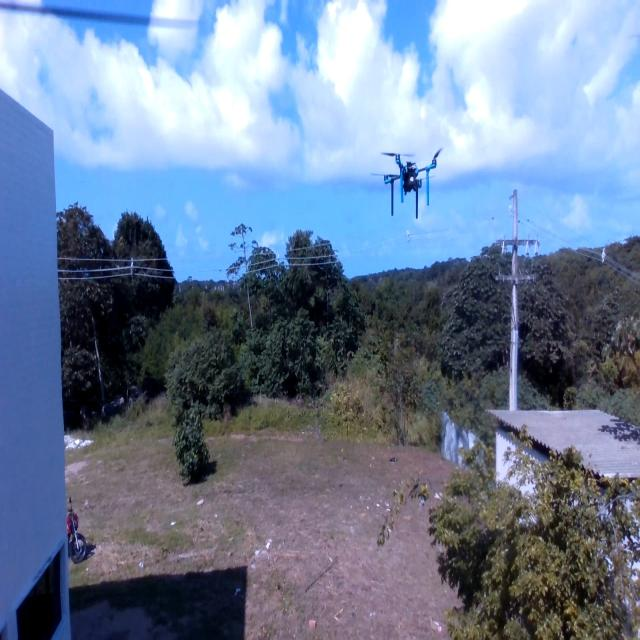-uav-: (372, 136, 452, 234)
